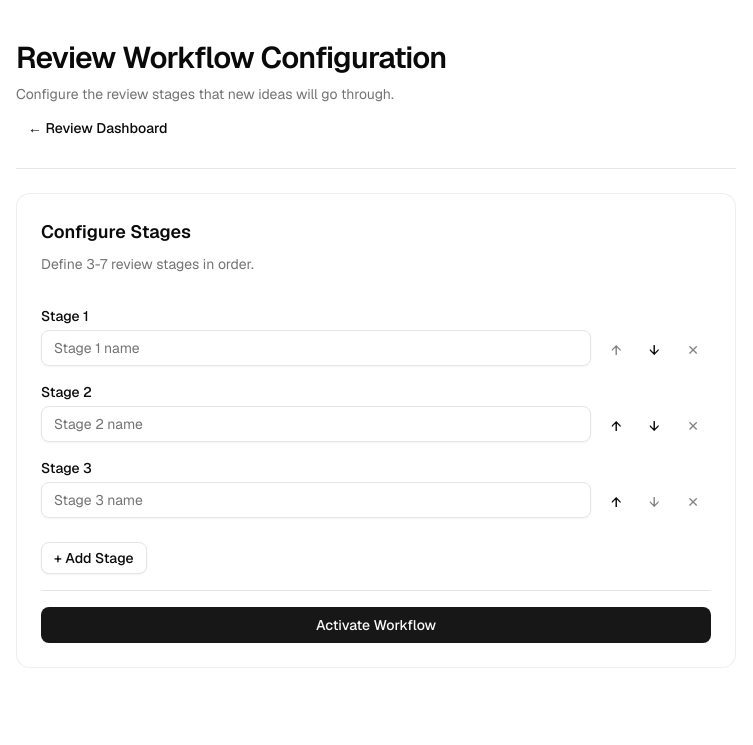
Test: WorkflowConfigPage › submits workflow and shows success message
Expected: the text "Configure Stages" is shown, top-left (41, 220), bottom-right (191, 243)
# Fill in stage names
Type "Screening" into the field labelled "Stage 1" at [316, 348], box top-left (41, 330), bottom-right (591, 366)
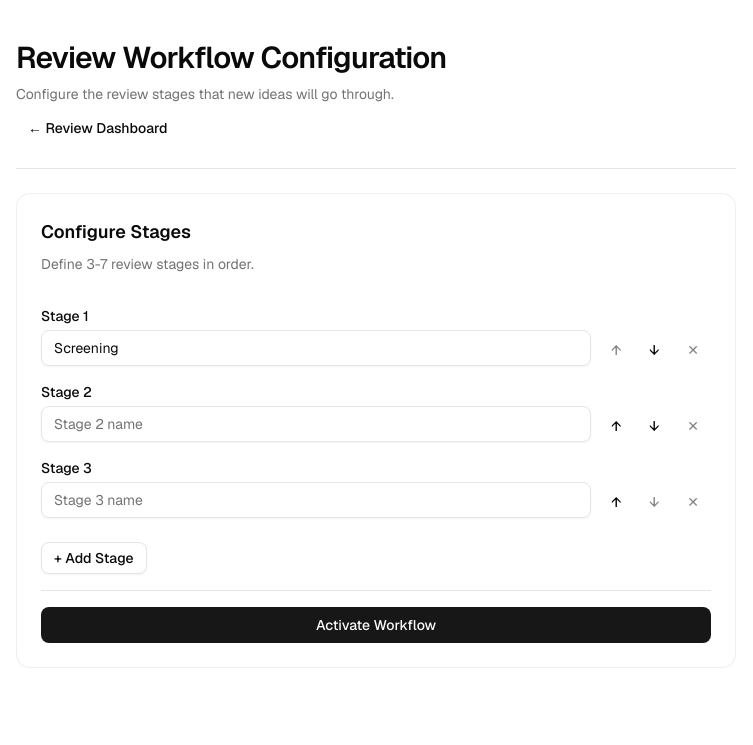
Type "Technical" into the field labelled "Stage 2" at [316, 424], box top-left (41, 406), bottom-right (591, 442)
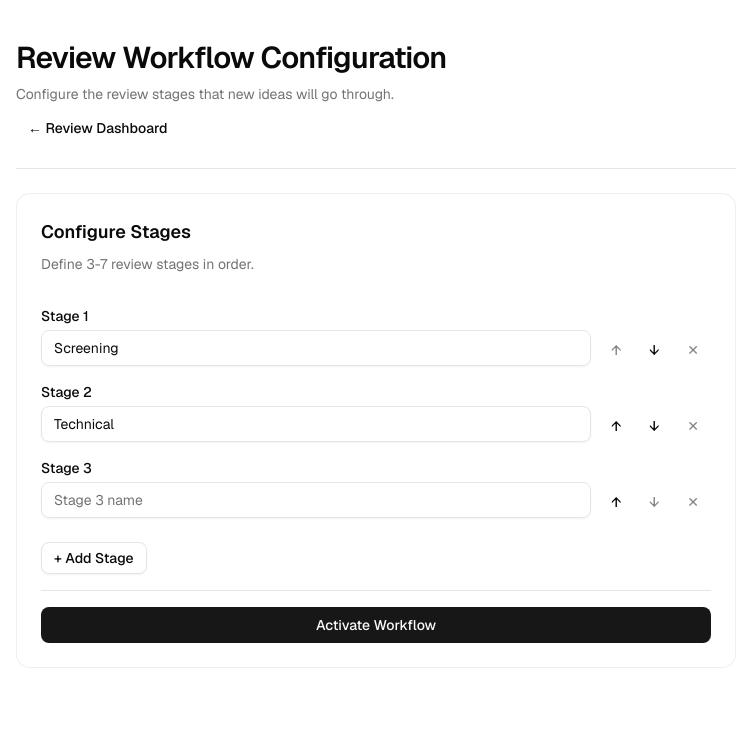
Type "Final" into the field labelled "Stage 3" at [316, 500], box top-left (41, 482), bottom-right (591, 518)
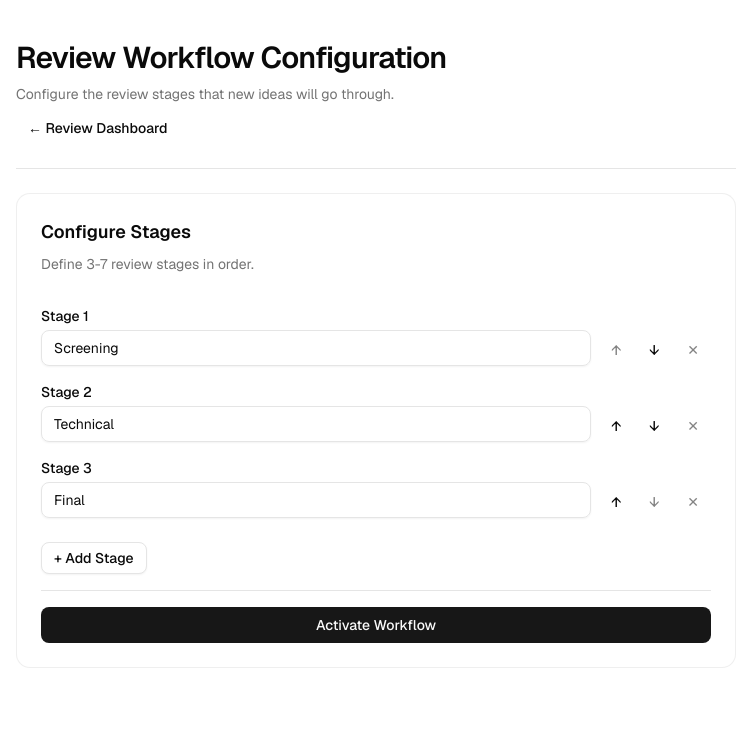
Click the button "Activate Workflow" at [376, 625], box top-left (41, 607), bottom-right (711, 643)
(page scrolled)
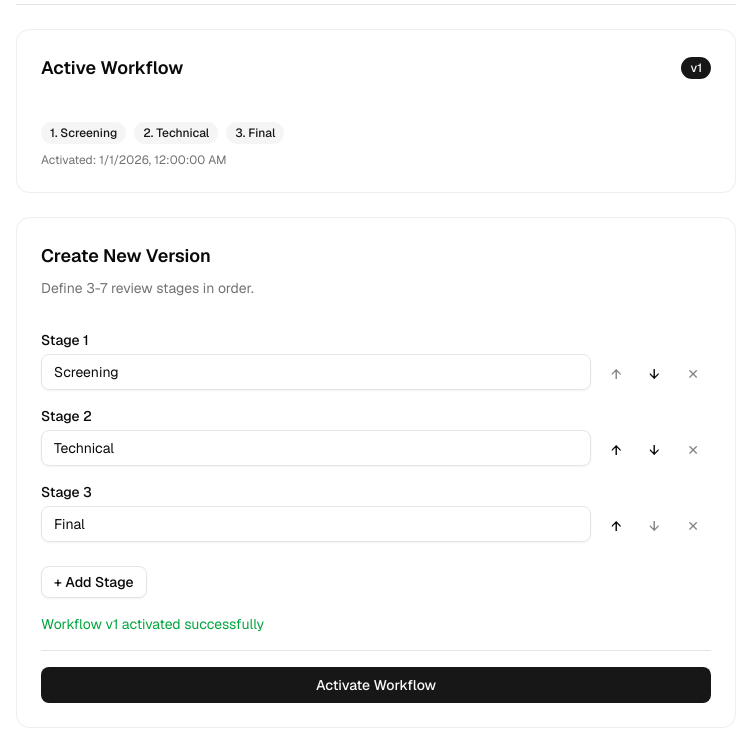
Result: the text "Workflow v1 activated successfully" is shown at top-left (41, 615), bottom-right (264, 633)
